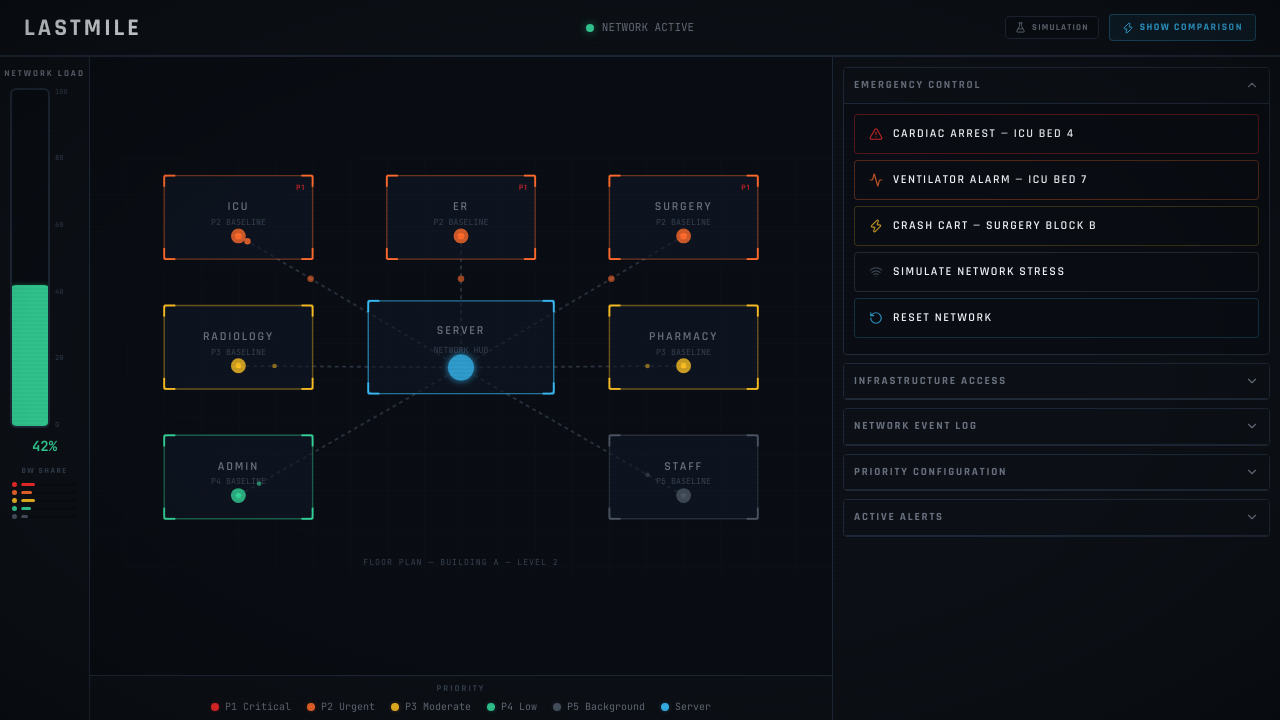
it: App › returns to normal after a reset
Click the button "Simulate Network Stress".
click(1056, 272)  # box [854,252,1259,292]
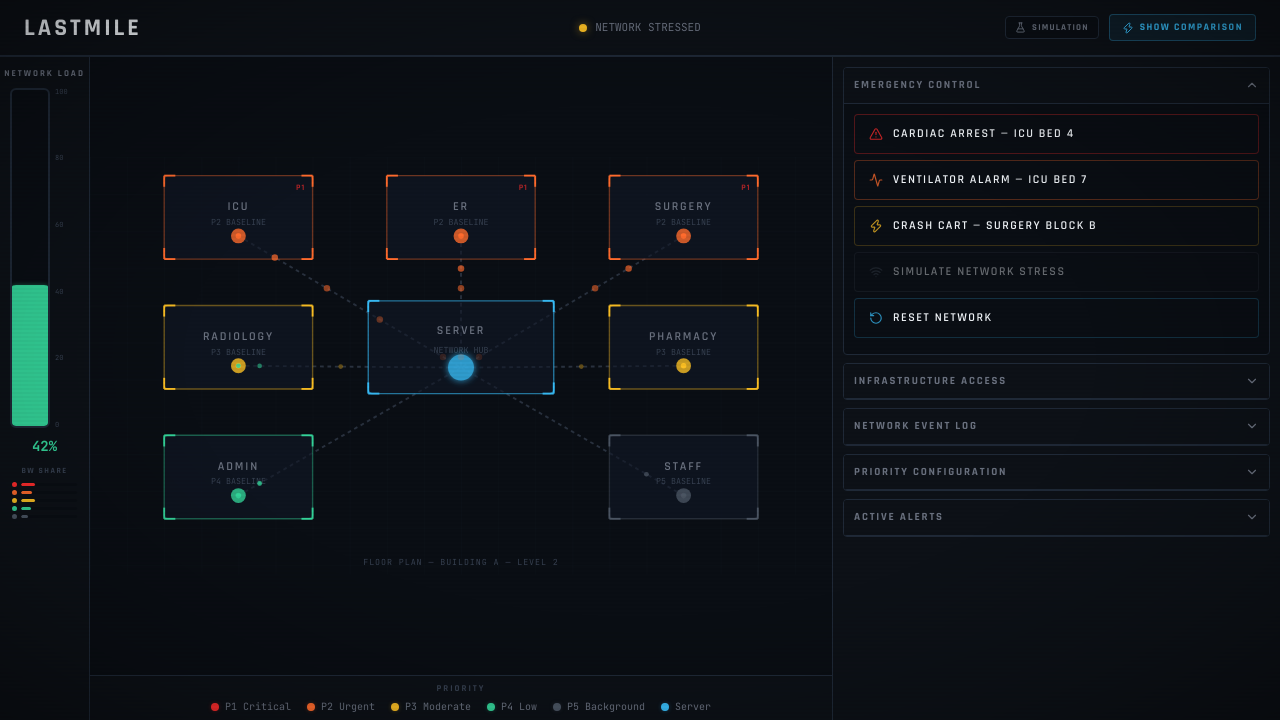
Expected: the message reads "NETWORK STRESSED", [595,20,701,34]
Click the button "Reset Network".
click(943, 317)  # box [854,298,1259,338]
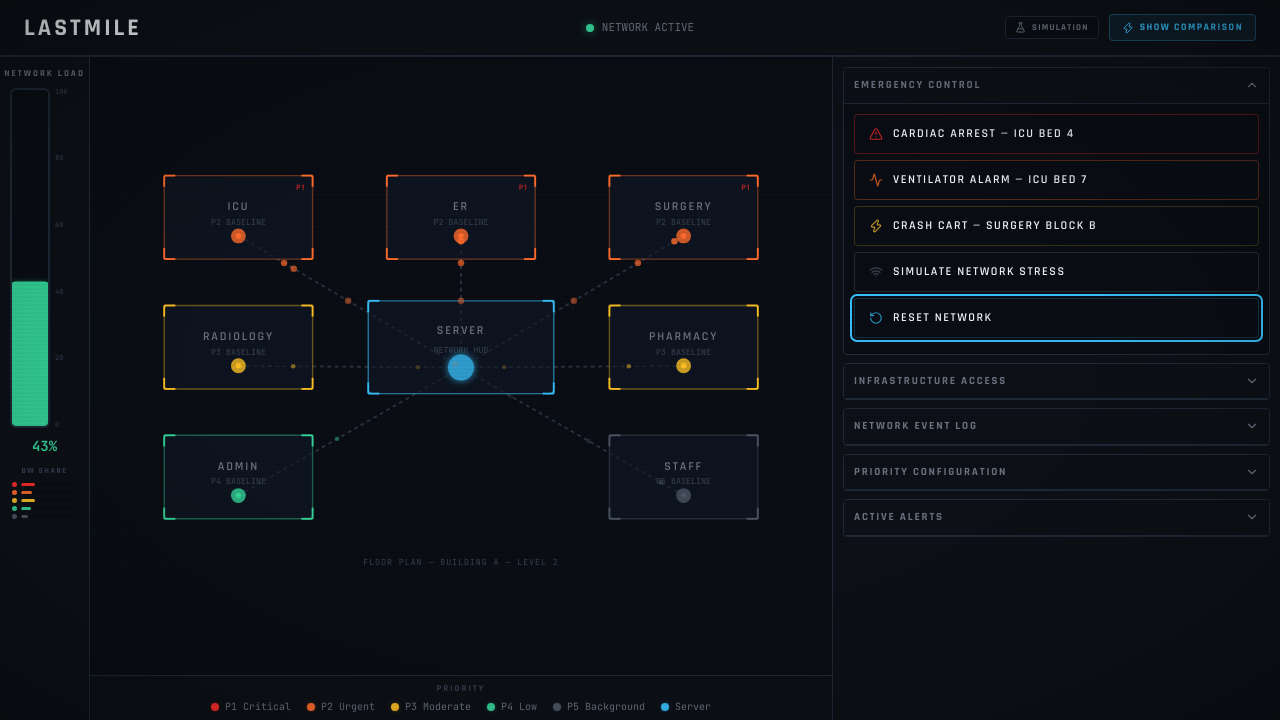
Expected: the message reads "NETWORK ACTIVE", [602,20,694,34]
